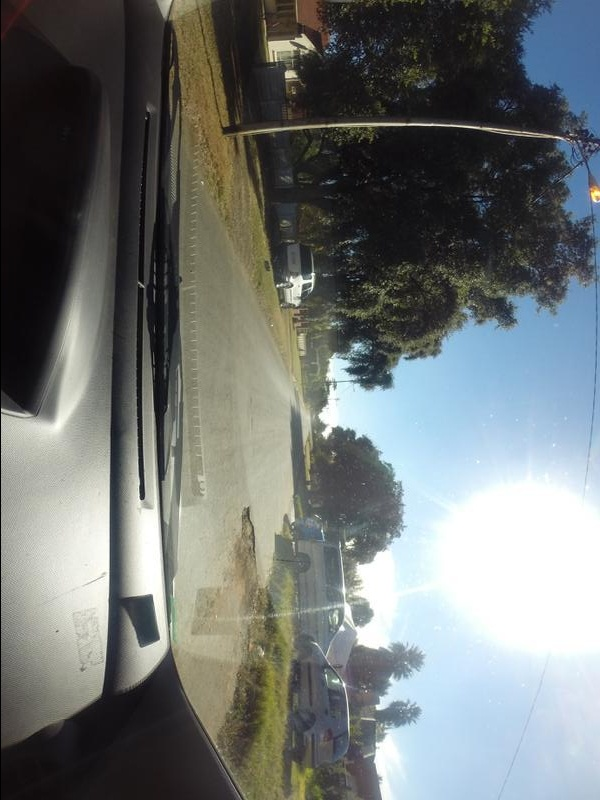pothole: (227, 504, 256, 617)
